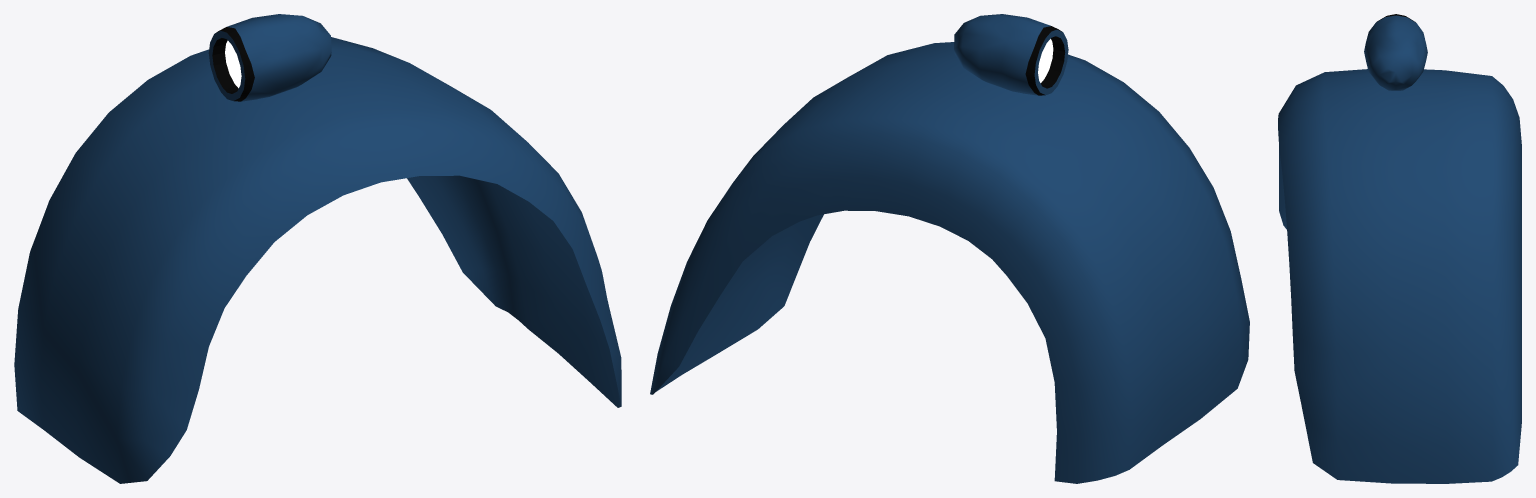
File: Tri Wing FR.glb
The picture shows the model from 3 angles, left to right: view 1: azimuth 30°, elevation 25°; view 2: azimuth 150°, elevation 25°; view 3: azimuth 270°, elevation 25°; orthographic projection. The views are drawn at different scales.
Parts seen in each view (by area): view 1: Wings.002; view 2: Wings.002; view 3: Wings.002.
Boxes of the visible parts, bbox=[...] form: Wings.002: bbox=[14, 14, 621, 483]; Wings.002: bbox=[650, 14, 1249, 483]; Wings.002: bbox=[1278, 14, 1521, 483].
Size of the model in its own units: 1.25 by 1.01 by 0.6577.
